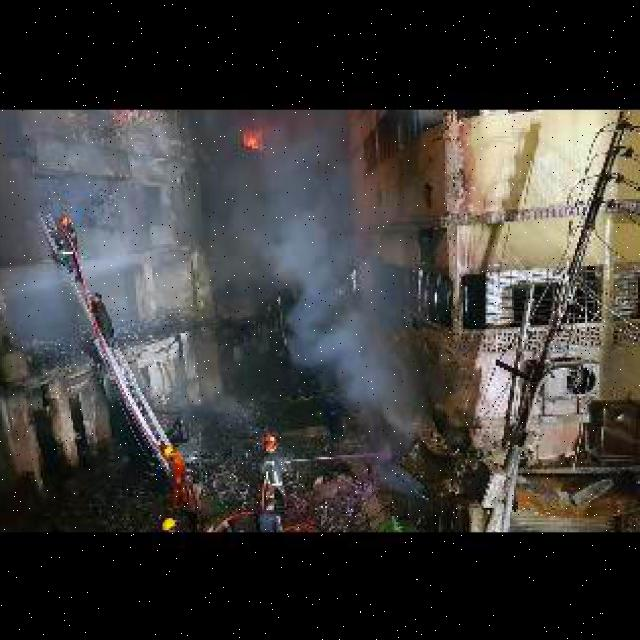fire: (234, 128, 274, 152)
smoke: (226, 172, 388, 360), (305, 311, 433, 453)
